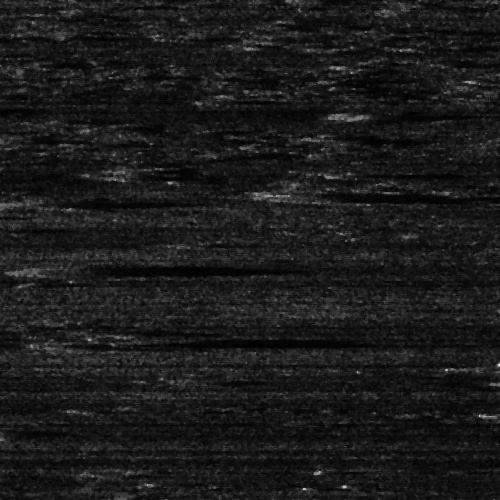object: (46, 333, 223, 346), (0, 337, 132, 350), (294, 168, 409, 177), (7, 264, 100, 275), (229, 192, 334, 201), (0, 195, 73, 206), (299, 107, 372, 118), (222, 375, 275, 382), (483, 359, 500, 366), (483, 412, 500, 417), (0, 427, 9, 434)
shadow: (135, 333, 398, 346), (49, 337, 272, 350), (53, 264, 236, 275), (16, 195, 172, 206), (335, 107, 473, 118), (282, 192, 442, 201), (352, 168, 464, 177), (249, 375, 325, 382), (0, 427, 20, 434)
